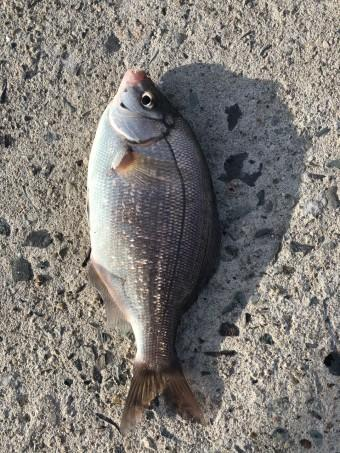fish: (88, 70, 221, 436)
